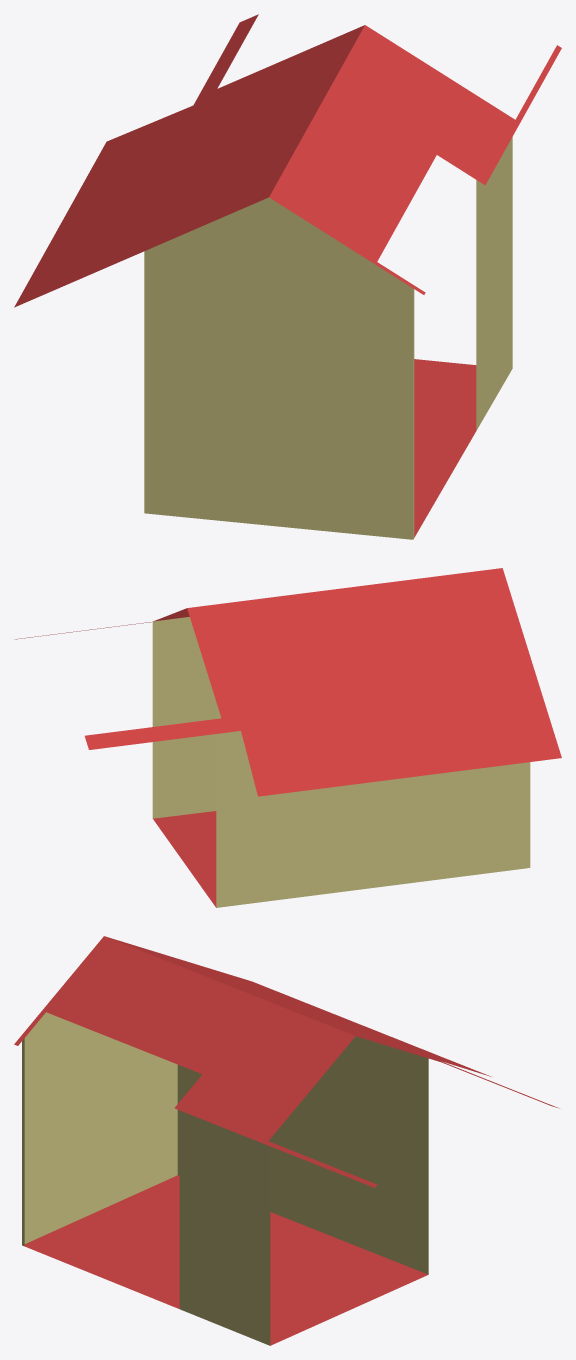
3 renders of one model, top to bottom at view 1: azimuth 30°, elevation 25°; view 2: azimuth 150°, elevation 25°; view 3: azimuth 270°, elevation 25°, orthographic. The views are drawn at different scales.
Bounding box in the file's own units: 27.08 × 25.04 × 13.68.
